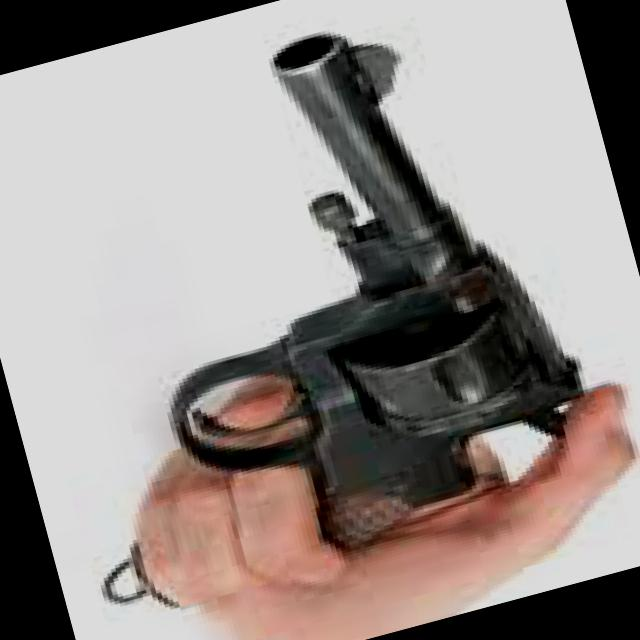handgun: (20, 0, 624, 617)
